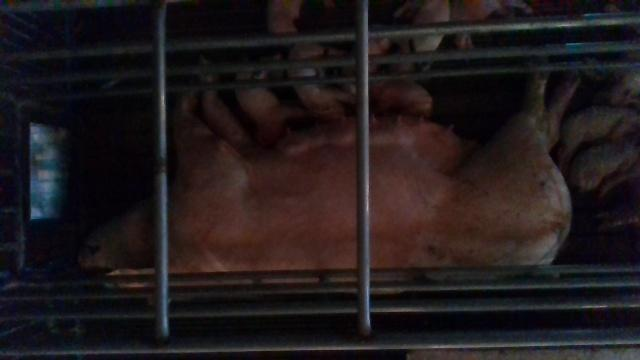piglet: (233, 63, 311, 142), (290, 44, 356, 124), (197, 59, 252, 152), (558, 108, 640, 170), (452, 0, 532, 50), (566, 140, 640, 193), (397, 1, 451, 69), (265, 0, 323, 57), (372, 80, 433, 119)
sow-sleep-lactate: (77, 71, 581, 293)
